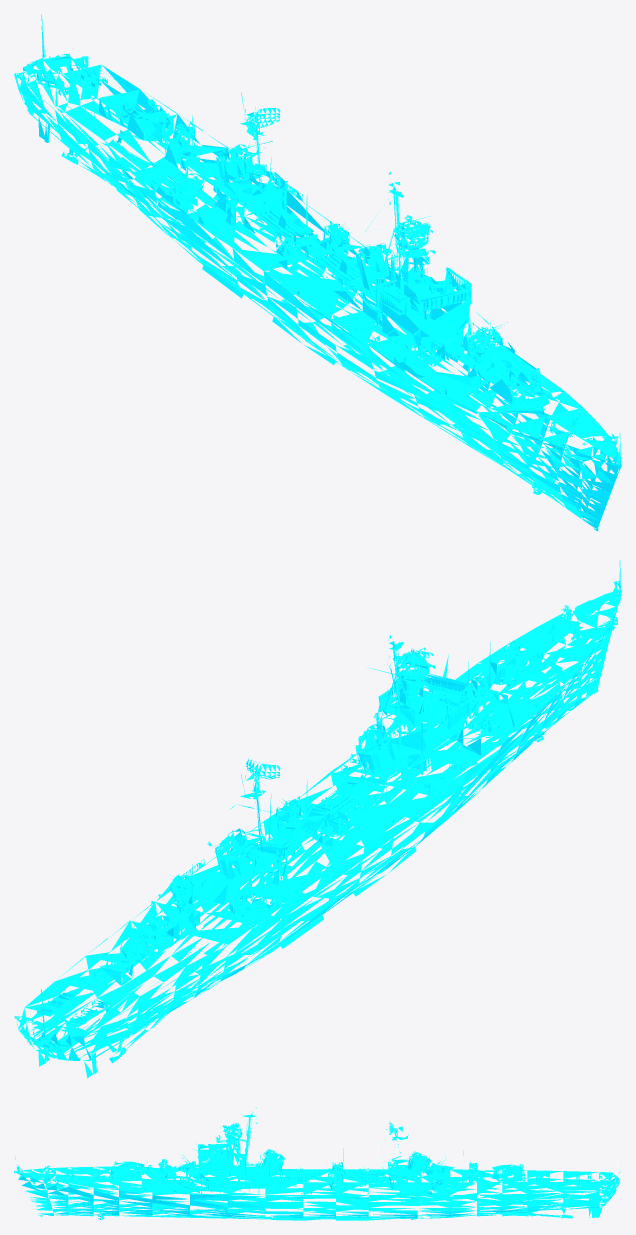
The model's file is Black_Neustrashimy.glb.
3 views of the same model, one above another, from view 1: azimuth 30°, elevation 25°; view 2: azimuth 150°, elevation 25°; view 3: azimuth 270°, elevation 25° (orthographic). The views are drawn at different scales.
Size of the model in its own units: 0.9052 by 1.83 by 8.97.
